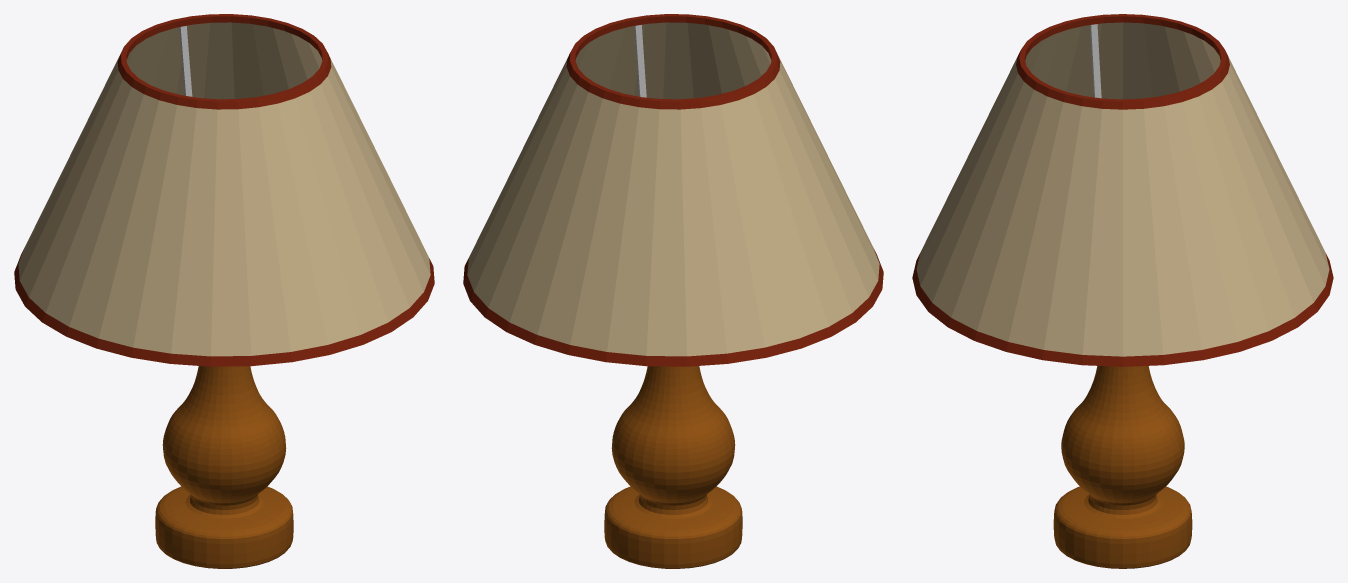
The model's file is little_lamp.glb.
3 views of the same model, side by side, from view 1: azimuth 30°, elevation 25°; view 2: azimuth 150°, elevation 25°; view 3: azimuth 270°, elevation 25° (orthographic).
Parts seen in each view (by area): view 1: lamp2_Circle.002_squares_multilamps.jpg, lamp2_sub_Circle.003_wood_red, lamp2_Circle.002_border_multilamps.jpg, lamp2_Circle.002_whitesop; view 2: lamp2_Circle.002_squares_multilamps.jpg, lamp2_sub_Circle.003_wood_red, lamp2_Circle.002_border_multilamps.jpg, lamp2_Circle.002_whitesop; view 3: lamp2_Circle.002_squares_multilamps.jpg, lamp2_sub_Circle.003_wood_red, lamp2_Circle.002_border_multilamps.jpg, lamp2_Circle.002_whitesop.
Part boxes in pixels (box(x1,y1,x2,y2)): lamp2_Circle.002_squares_multilamps.jpg: box(18, 22, 430, 356); lamp2_sub_Circle.003_wood_red: box(155, 366, 293, 568); lamp2_Circle.002_border_multilamps.jpg: box(14, 14, 434, 366); lamp2_Circle.002_whitesop: box(179, 26, 192, 96); lamp2_Circle.002_squares_multilamps.jpg: box(467, 22, 879, 356); lamp2_sub_Circle.003_wood_red: box(604, 366, 742, 568); lamp2_Circle.002_border_multilamps.jpg: box(463, 14, 883, 366); lamp2_Circle.002_whitesop: box(634, 25, 646, 97); lamp2_Circle.002_squares_multilamps.jpg: box(916, 22, 1329, 356); lamp2_sub_Circle.003_wood_red: box(1053, 366, 1192, 568); lamp2_Circle.002_border_multilamps.jpg: box(912, 14, 1333, 366); lamp2_Circle.002_whitesop: box(1090, 24, 1101, 98).
Bounding box in the file's own units: 0.3315 × 0.419 × 0.3315.
